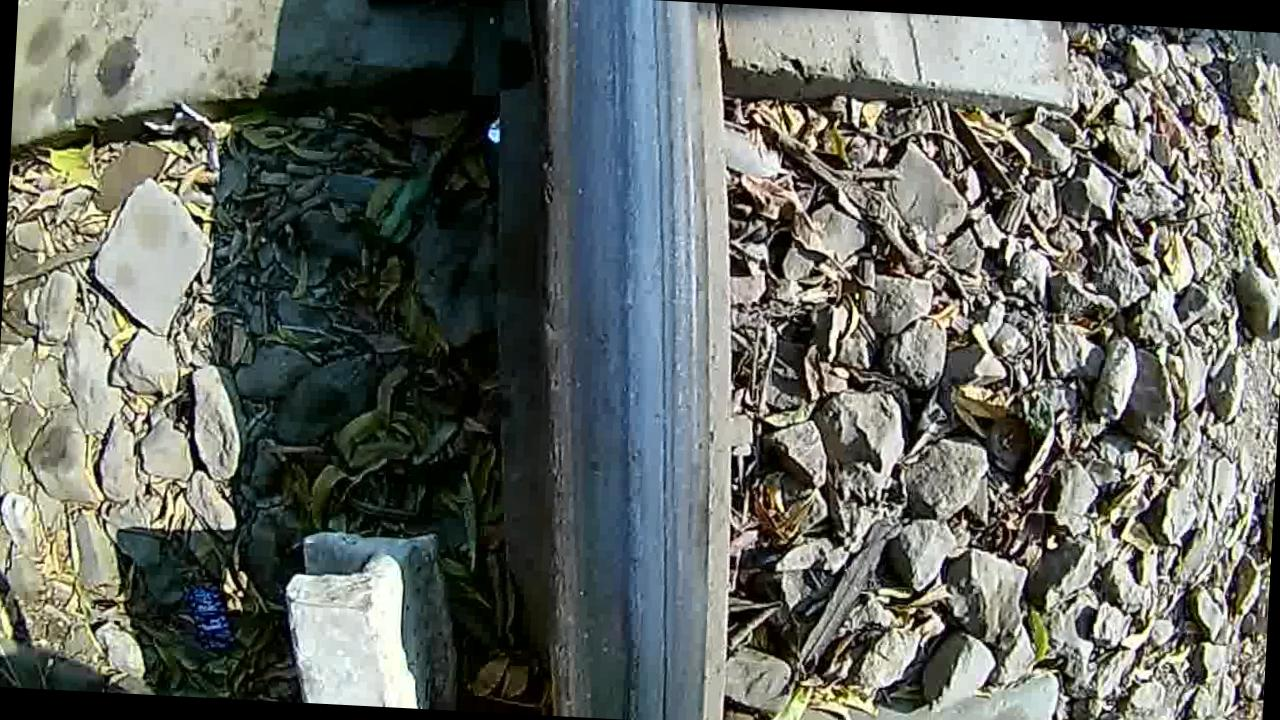clip_missing: (497, 0, 757, 720)
